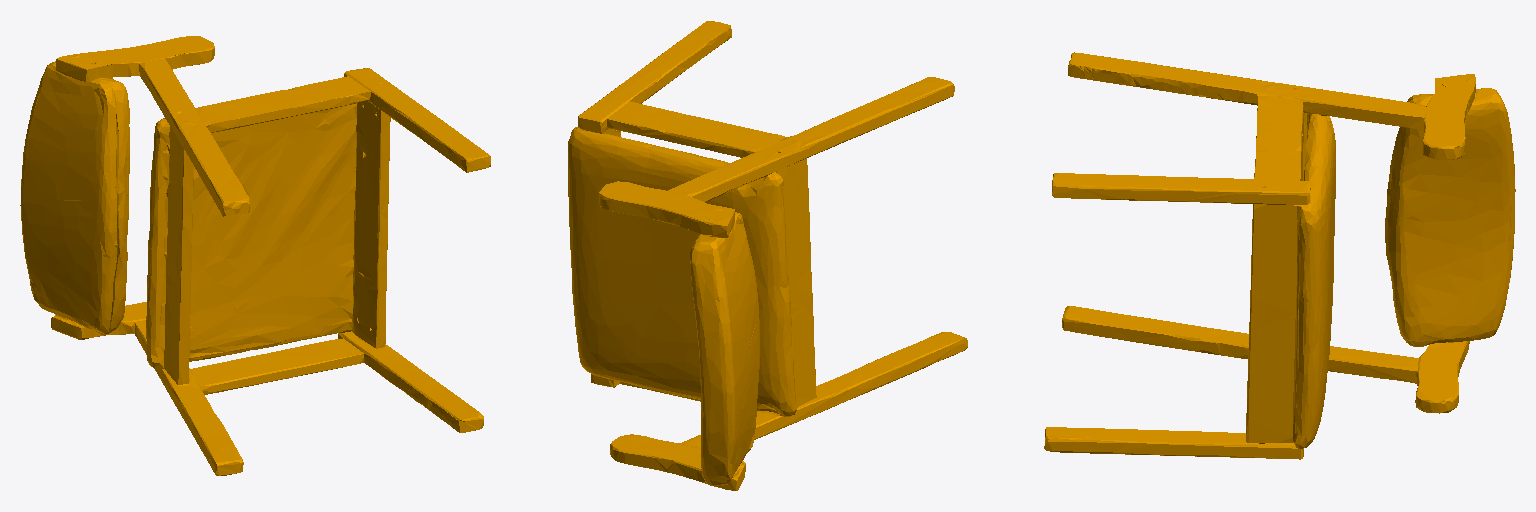
robot.urdf — chair021:
<?xml version='1.0' encoding='utf-8'?>
<robot name="chair021">
  <link name="chair021_link">
    <inertial>
      <origin xyz="-0.0153408561273 0.0748650554502 -0.00380911442266" rpy="0 0 0" />
      <mass value="5" />
      <inertia ixx="0.1253102255440" ixy="0.03154671411575" ixz="-0.0006530358770" iyy="0.126795453685" iyz="-0.00186917395970" izz="0.1222128082535" />
    </inertial>
    <visual name="chair021_visual">
      <origin xyz="0 0 0" rpy="0 0 0" />
      <geometry>
        <mesh filename="chair021_m.obj" scale="0.744193062691 0.744193062691 0.744193062691" />
      </geometry>
    </visual>
    <collision name="chair021_mesh_collision">
      <origin xyz="0 0 0" rpy="0 0 0" />
      <geometry>
        <mesh filename="chair021_m.obj" scale="0.744193062691 0.744193062691 0.744193062691" />
      </geometry>
    </collision>
  </link>
</robot>

--- Render facts (derived) ---
3 views of the same robot in one strip: view 1: azimuth 30°, elevation 25°; view 2: azimuth 150°, elevation 25°; view 3: azimuth 270°, elevation 25° (orthographic).
Robot: chair021 — 1 links, 0 joints (none); root link chair021_link; default pose: all joints at 0.
Links seen in each view (by area): view 1: chair021_link; view 2: chair021_link; view 3: chair021_link.
Link boxes in pixels (x1,y1,x2,y2): chair021_link: (20, 36, 490, 475); chair021_link: (568, 21, 967, 490); chair021_link: (1044, 52, 1515, 459).
Bounding box of the posed robot: 0.4 × 0.5725 × 0.381 m (x, y, z).
1 mesh visuals loaded from 1 distinct referenced files (1 OBJ).
